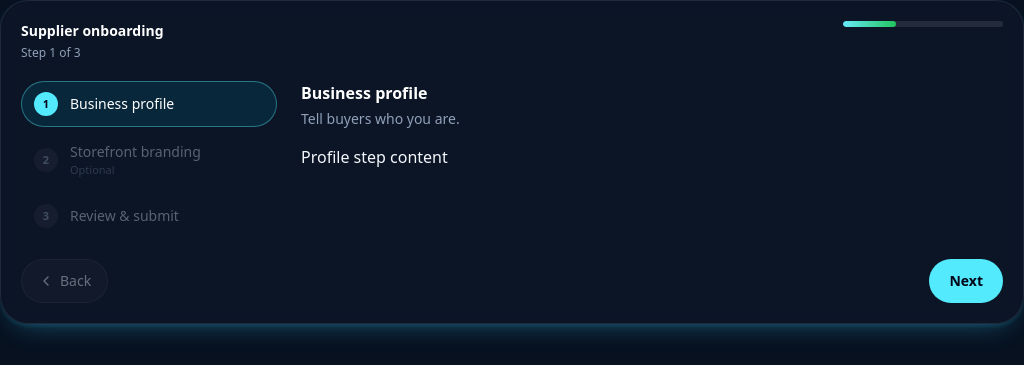
it: SupplierOnboardingWizard › shows a skip toggle for optional steps and unblocks Next when skipped
The width and height of the screenshot is (1024, 365).
Step 1. Click the button "Next" → (966,281), box [930,259,1003,303]
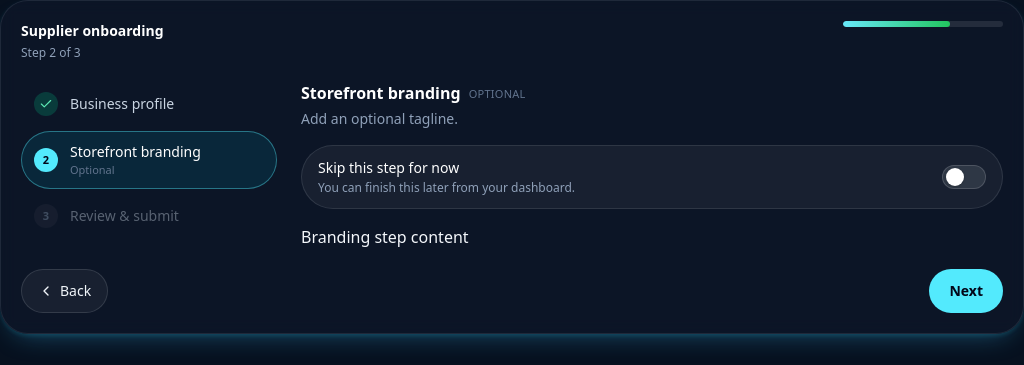
Result: the text "Step 2 of 3" is shown at [21,44,81,61]
Step 2. Click the switch named "skip this step for now" → (964,177), box [942,165,986,189]
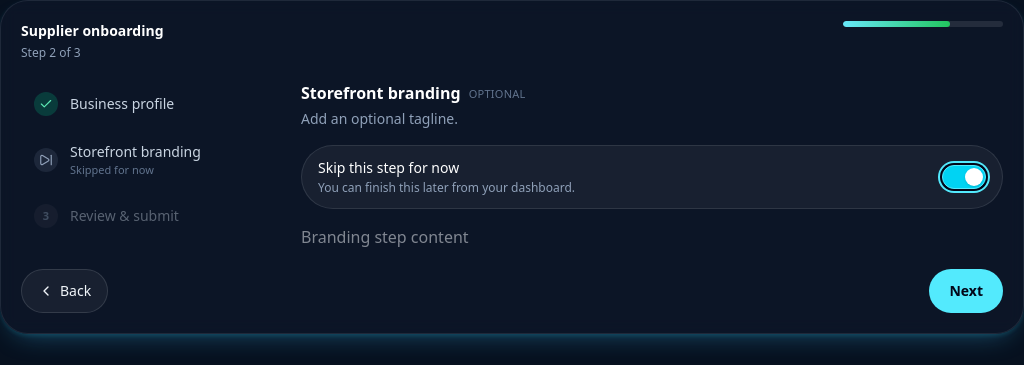
Result: the switch named "skip this step for now" is checked at [942,165,986,189]
Step 3. Click the button "Next" → (966,291), box [930,269,1003,313]
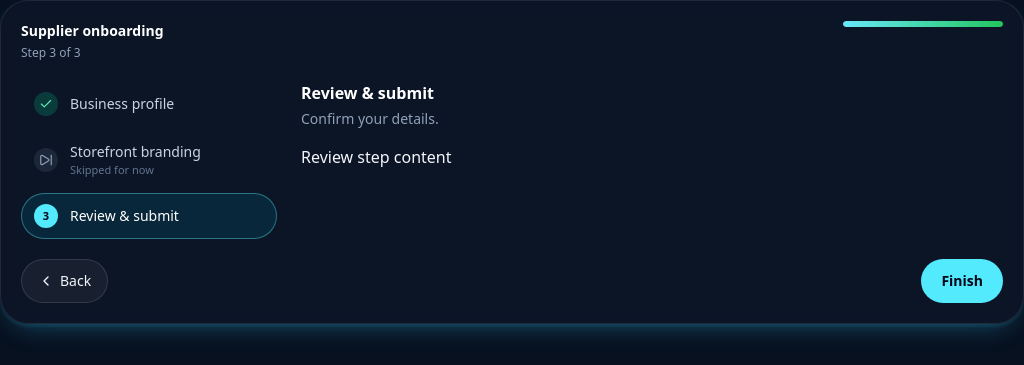
Result: the text "Step 3 of 3" is shown at [21,44,81,61]
